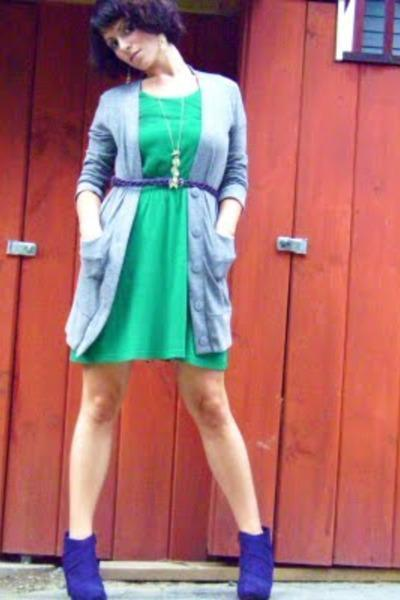dress: (69, 92, 229, 371)
jacket: (65, 67, 248, 356)
shoe: (60, 516, 293, 599)
